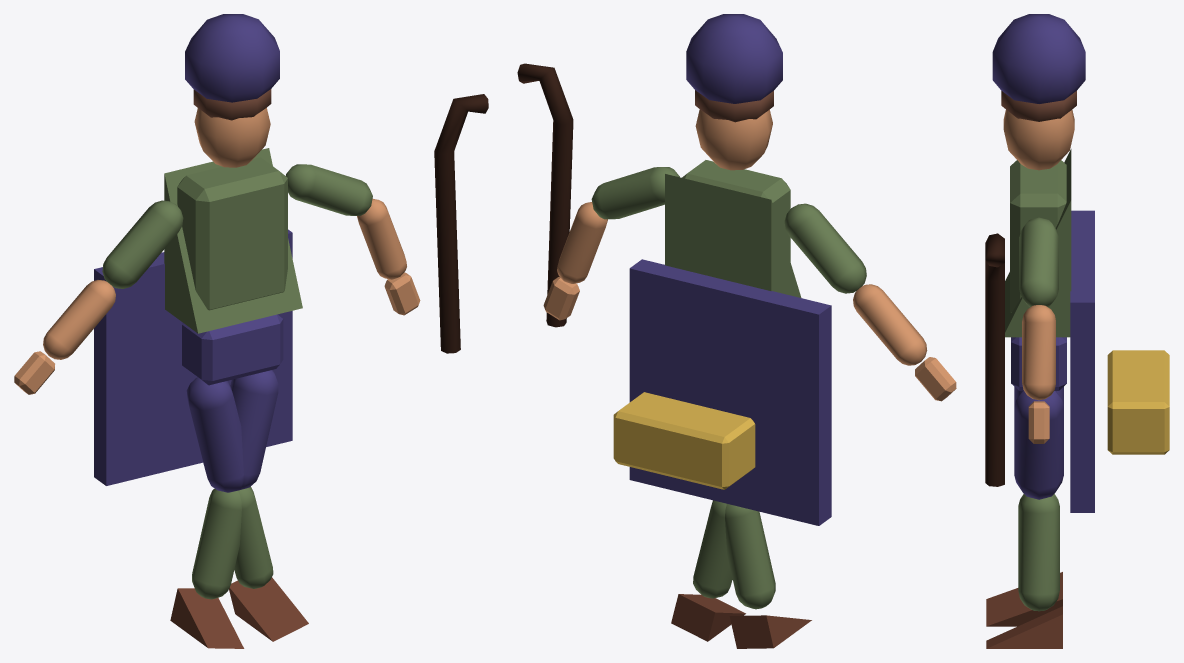
File: adventurer.rustic.glb
The picture shows the model from 3 angles, left to right: view 1: azimuth 30°, elevation 25°; view 2: azimuth 150°, elevation 25°; view 3: azimuth 270°, elevation 25°; orthographic projection.
Visible parts, largest first — view 1: accessory.back, torso, accessory.head, tunic, accessory.main-hand, pelvis, thigh.left, shin.right, upper-arm.left, thigh.right, head, upper-arm.right (+8 smaller); view 2: accessory.back, tunic, accessory.waist, accessory.head, accessory.main-hand, shin.right, upper-arm.left, head, forearm.left, upper-arm.right, torso, shin.left (+6 smaller); view 3: accessory.back, accessory.head, accessory.waist, accessory.main-hand, shin.left, thigh.right, torso, upper-arm.right, head, forearm.right, tunic, foot.left (+4 smaller).
Boxes of the visible parts, x1=… form: accessory.back: x1=94, y1=229, x2=292, y2=485; torso: x1=177, y1=157, x2=287, y2=310; accessory.head: x1=185, y1=14, x2=279, y2=102; tunic: x1=164, y1=148, x2=302, y2=333; accessory.main-hand: x1=434, y1=94, x2=488, y2=353; pelvis: x1=182, y1=314, x2=283, y2=385; thigh.left: x1=186, y1=377, x2=243, y2=492; shin.right: x1=192, y1=488, x2=241, y2=599; upper-arm.left: x1=102, y1=200, x2=183, y2=288; thigh.right: x1=230, y1=370, x2=278, y2=490; head: x1=194, y1=107, x2=270, y2=167; upper-arm.right: x1=286, y1=164, x2=372, y2=215; accessory.back: x1=629, y1=259, x2=831, y2=525; tunic: x1=665, y1=174, x2=801, y2=297; accessory.waist: x1=613, y1=392, x2=755, y2=489; accessory.head: x1=686, y1=14, x2=782, y2=103; accessory.main-hand: x1=517, y1=63, x2=573, y2=327; shin.right: x1=725, y1=504, x2=775, y2=609; upper-arm.left: x1=784, y1=203, x2=866, y2=293; head: x1=695, y1=109, x2=772, y2=170; forearm.left: x1=853, y1=284, x2=927, y2=365; upper-arm.right: x1=591, y1=167, x2=679, y2=219; torso: x1=682, y1=160, x2=790, y2=261; shin.left: x1=693, y1=500, x2=732, y2=598; accessory.back: x1=1070, y1=210, x2=1094, y2=512; accessory.head: x1=992, y1=14, x2=1085, y2=103; accessory.waist: x1=1107, y1=350, x2=1169, y2=454; accessory.main-hand: x1=985, y1=233, x2=1004, y2=486; shin.left: x1=1018, y1=495, x2=1059, y2=611; thigh.right: x1=1014, y1=391, x2=1063, y2=499; torso: x1=1010, y1=160, x2=1066, y2=312; upper-arm.right: x1=1019, y1=217, x2=1058, y2=307; head: x1=1003, y1=110, x2=1074, y2=170; forearm.right: x1=1022, y1=305, x2=1055, y2=400; tunic: x1=1005, y1=149, x2=1071, y2=337; foot.left: x1=986, y1=606, x2=1062, y2=648.
Bounding box in the file's own units: 2.52 × 3.28 × 0.89.
